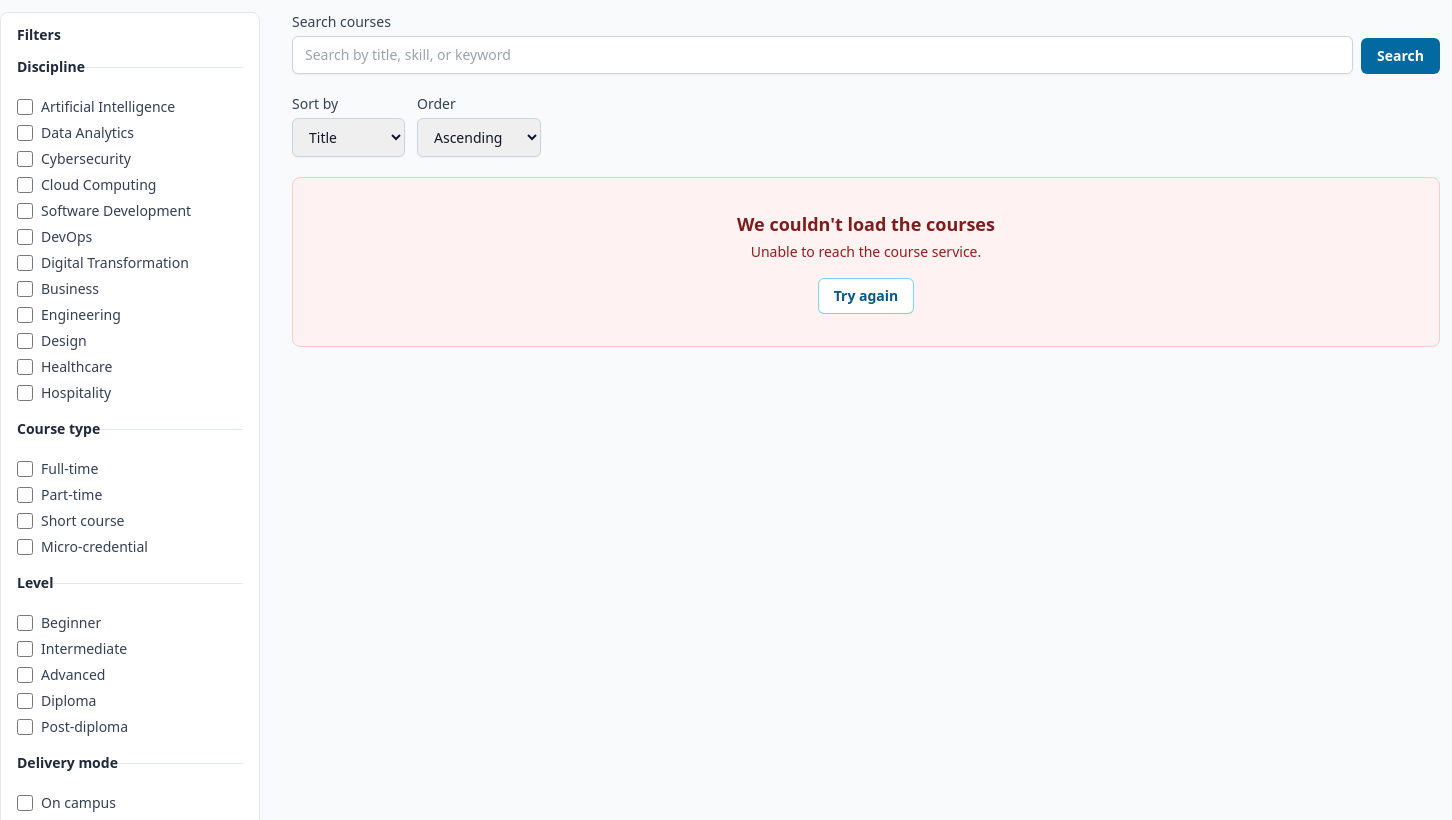
CourseCatalogue › shows an error state with retry, and retries on click
What coordinates should you click on to do the following:
click the button "Try again"
I would click on:
 (866, 296)
Its box is [818,278,914,314].
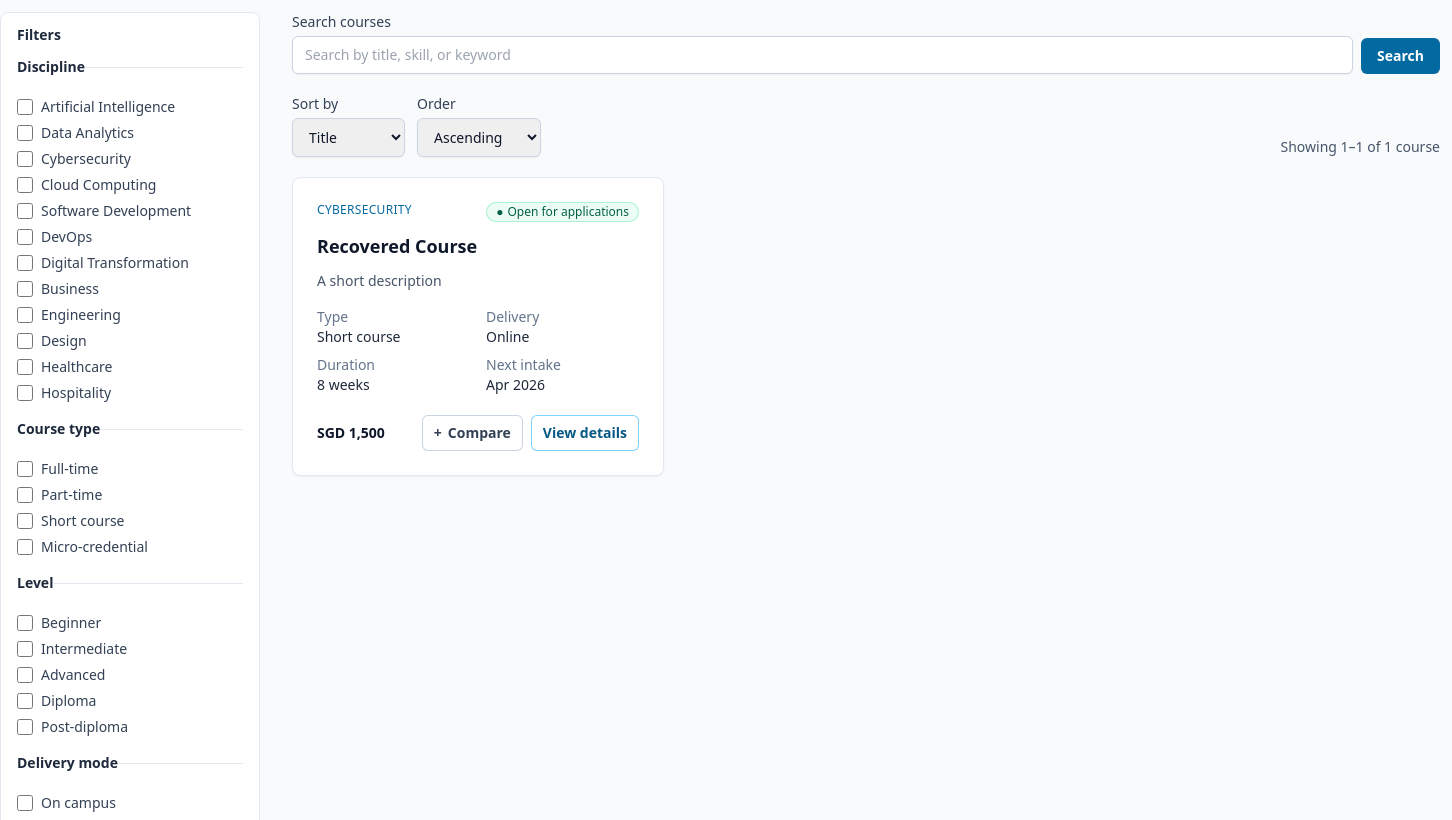
expect the heading "Recovered Course" is shown: met, box [317,234,477,258]
